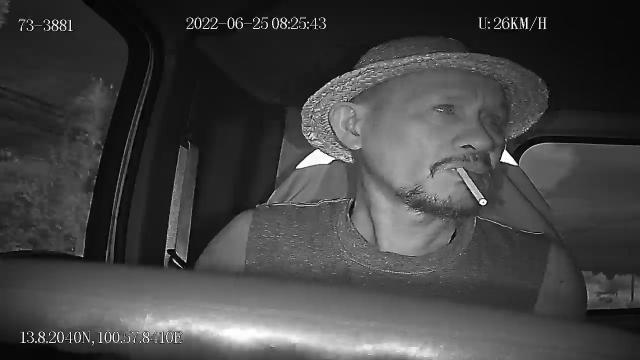SafeDriving: (423, 95, 464, 121)
Smoking: (454, 163, 486, 206)
